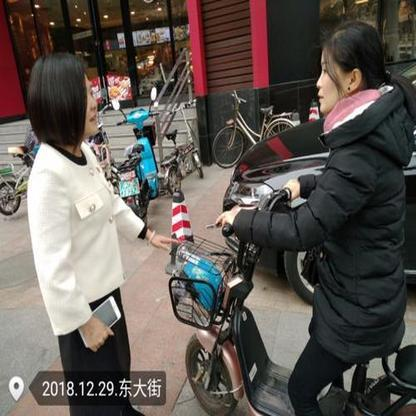target: (168, 20, 413, 413)
